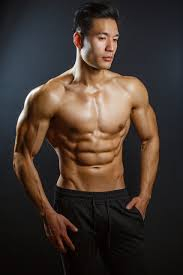asian_male: (72, 7, 130, 73)
